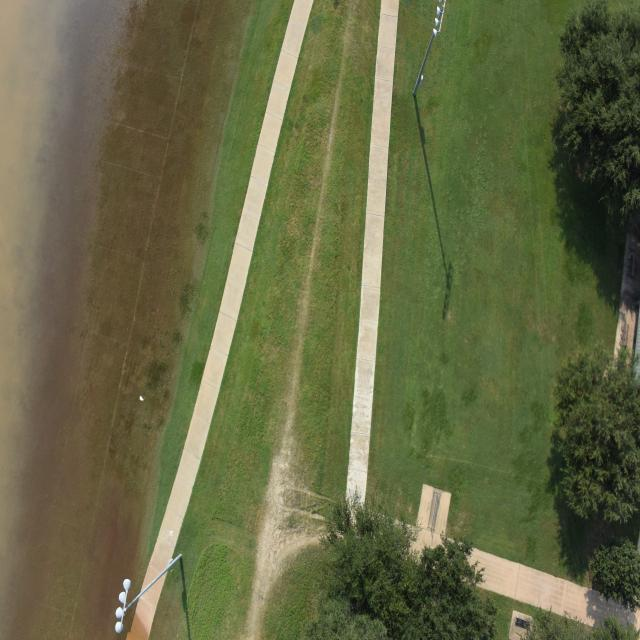fire: (1, 3, 131, 640)
